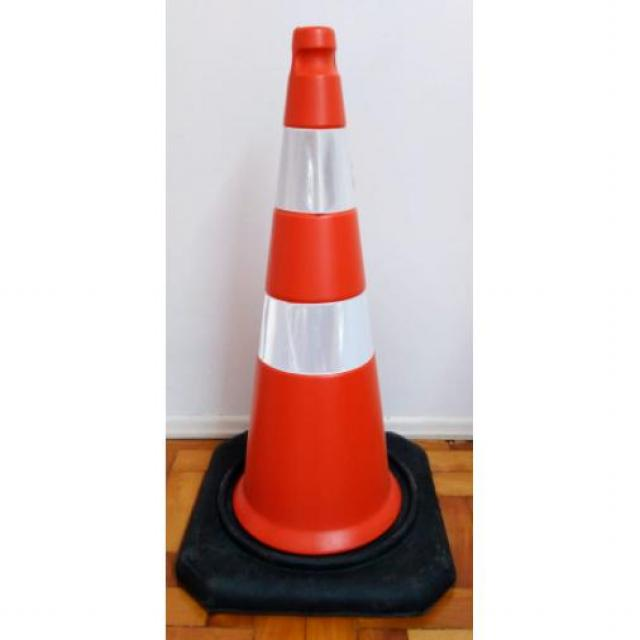cone: (233, 18, 401, 574)
